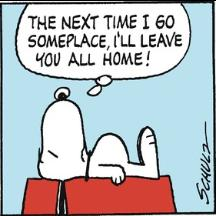snoopy: (36, 85, 162, 215)
